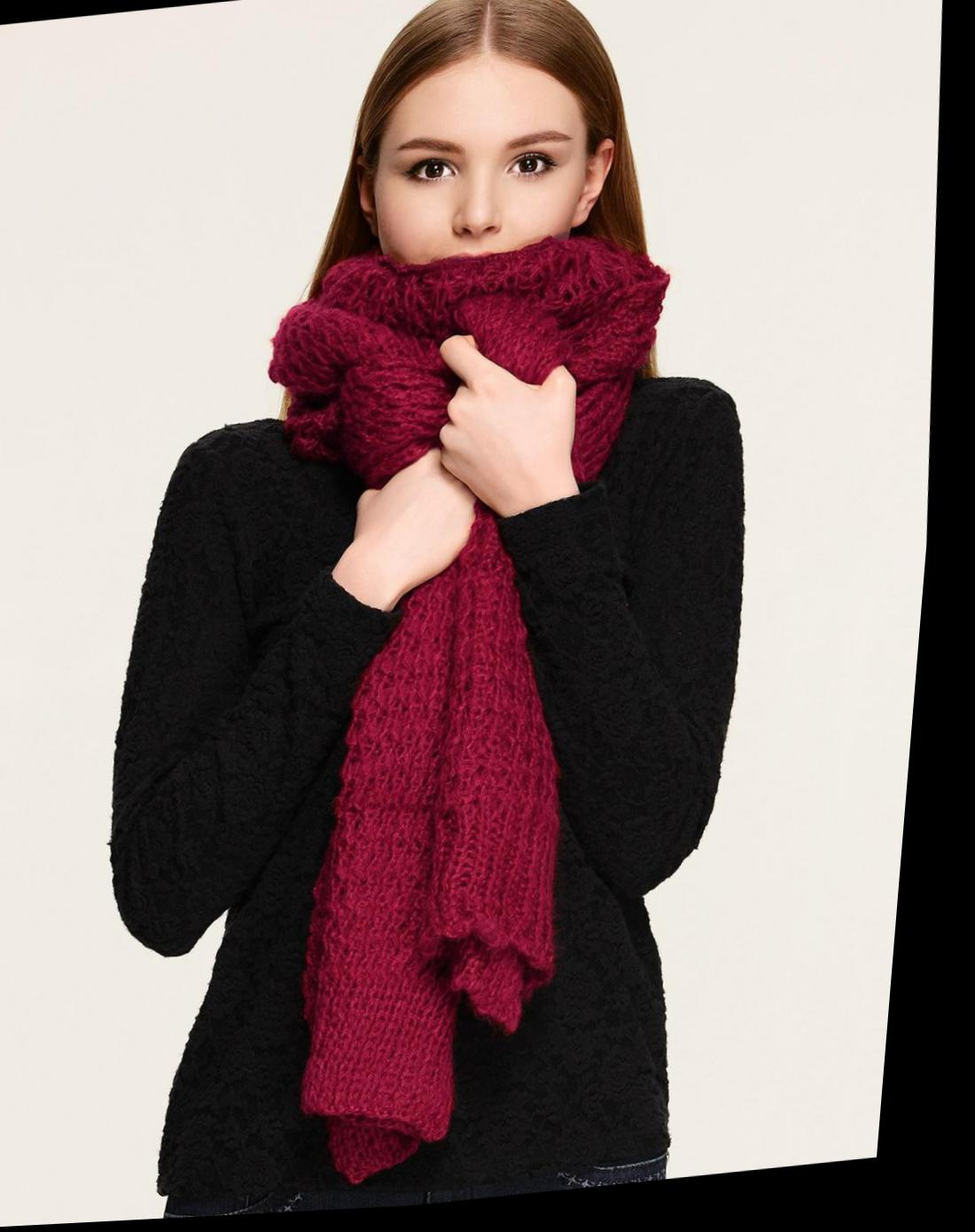WRONG: (370, 119, 591, 336)
